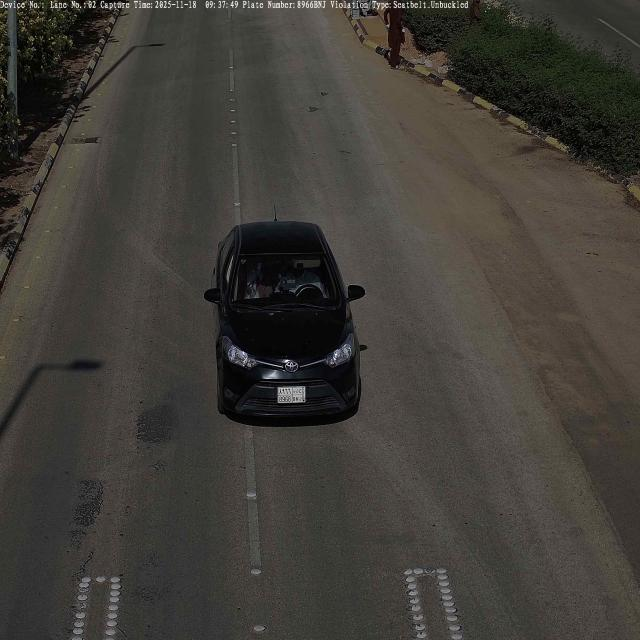person_without_seatbelt: (284, 262, 327, 300)
